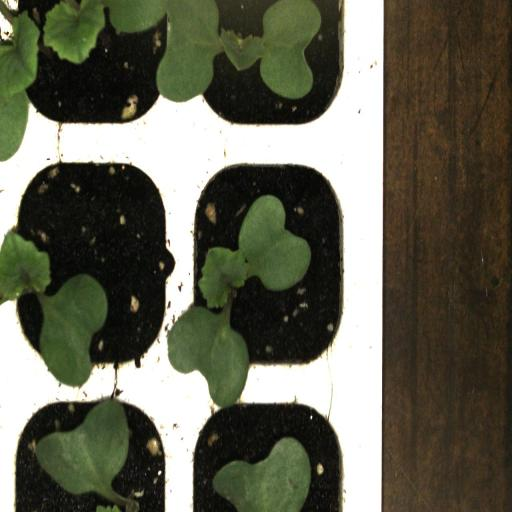seedling: (5, 147, 182, 393), (181, 146, 355, 380), (186, 0, 357, 142)
